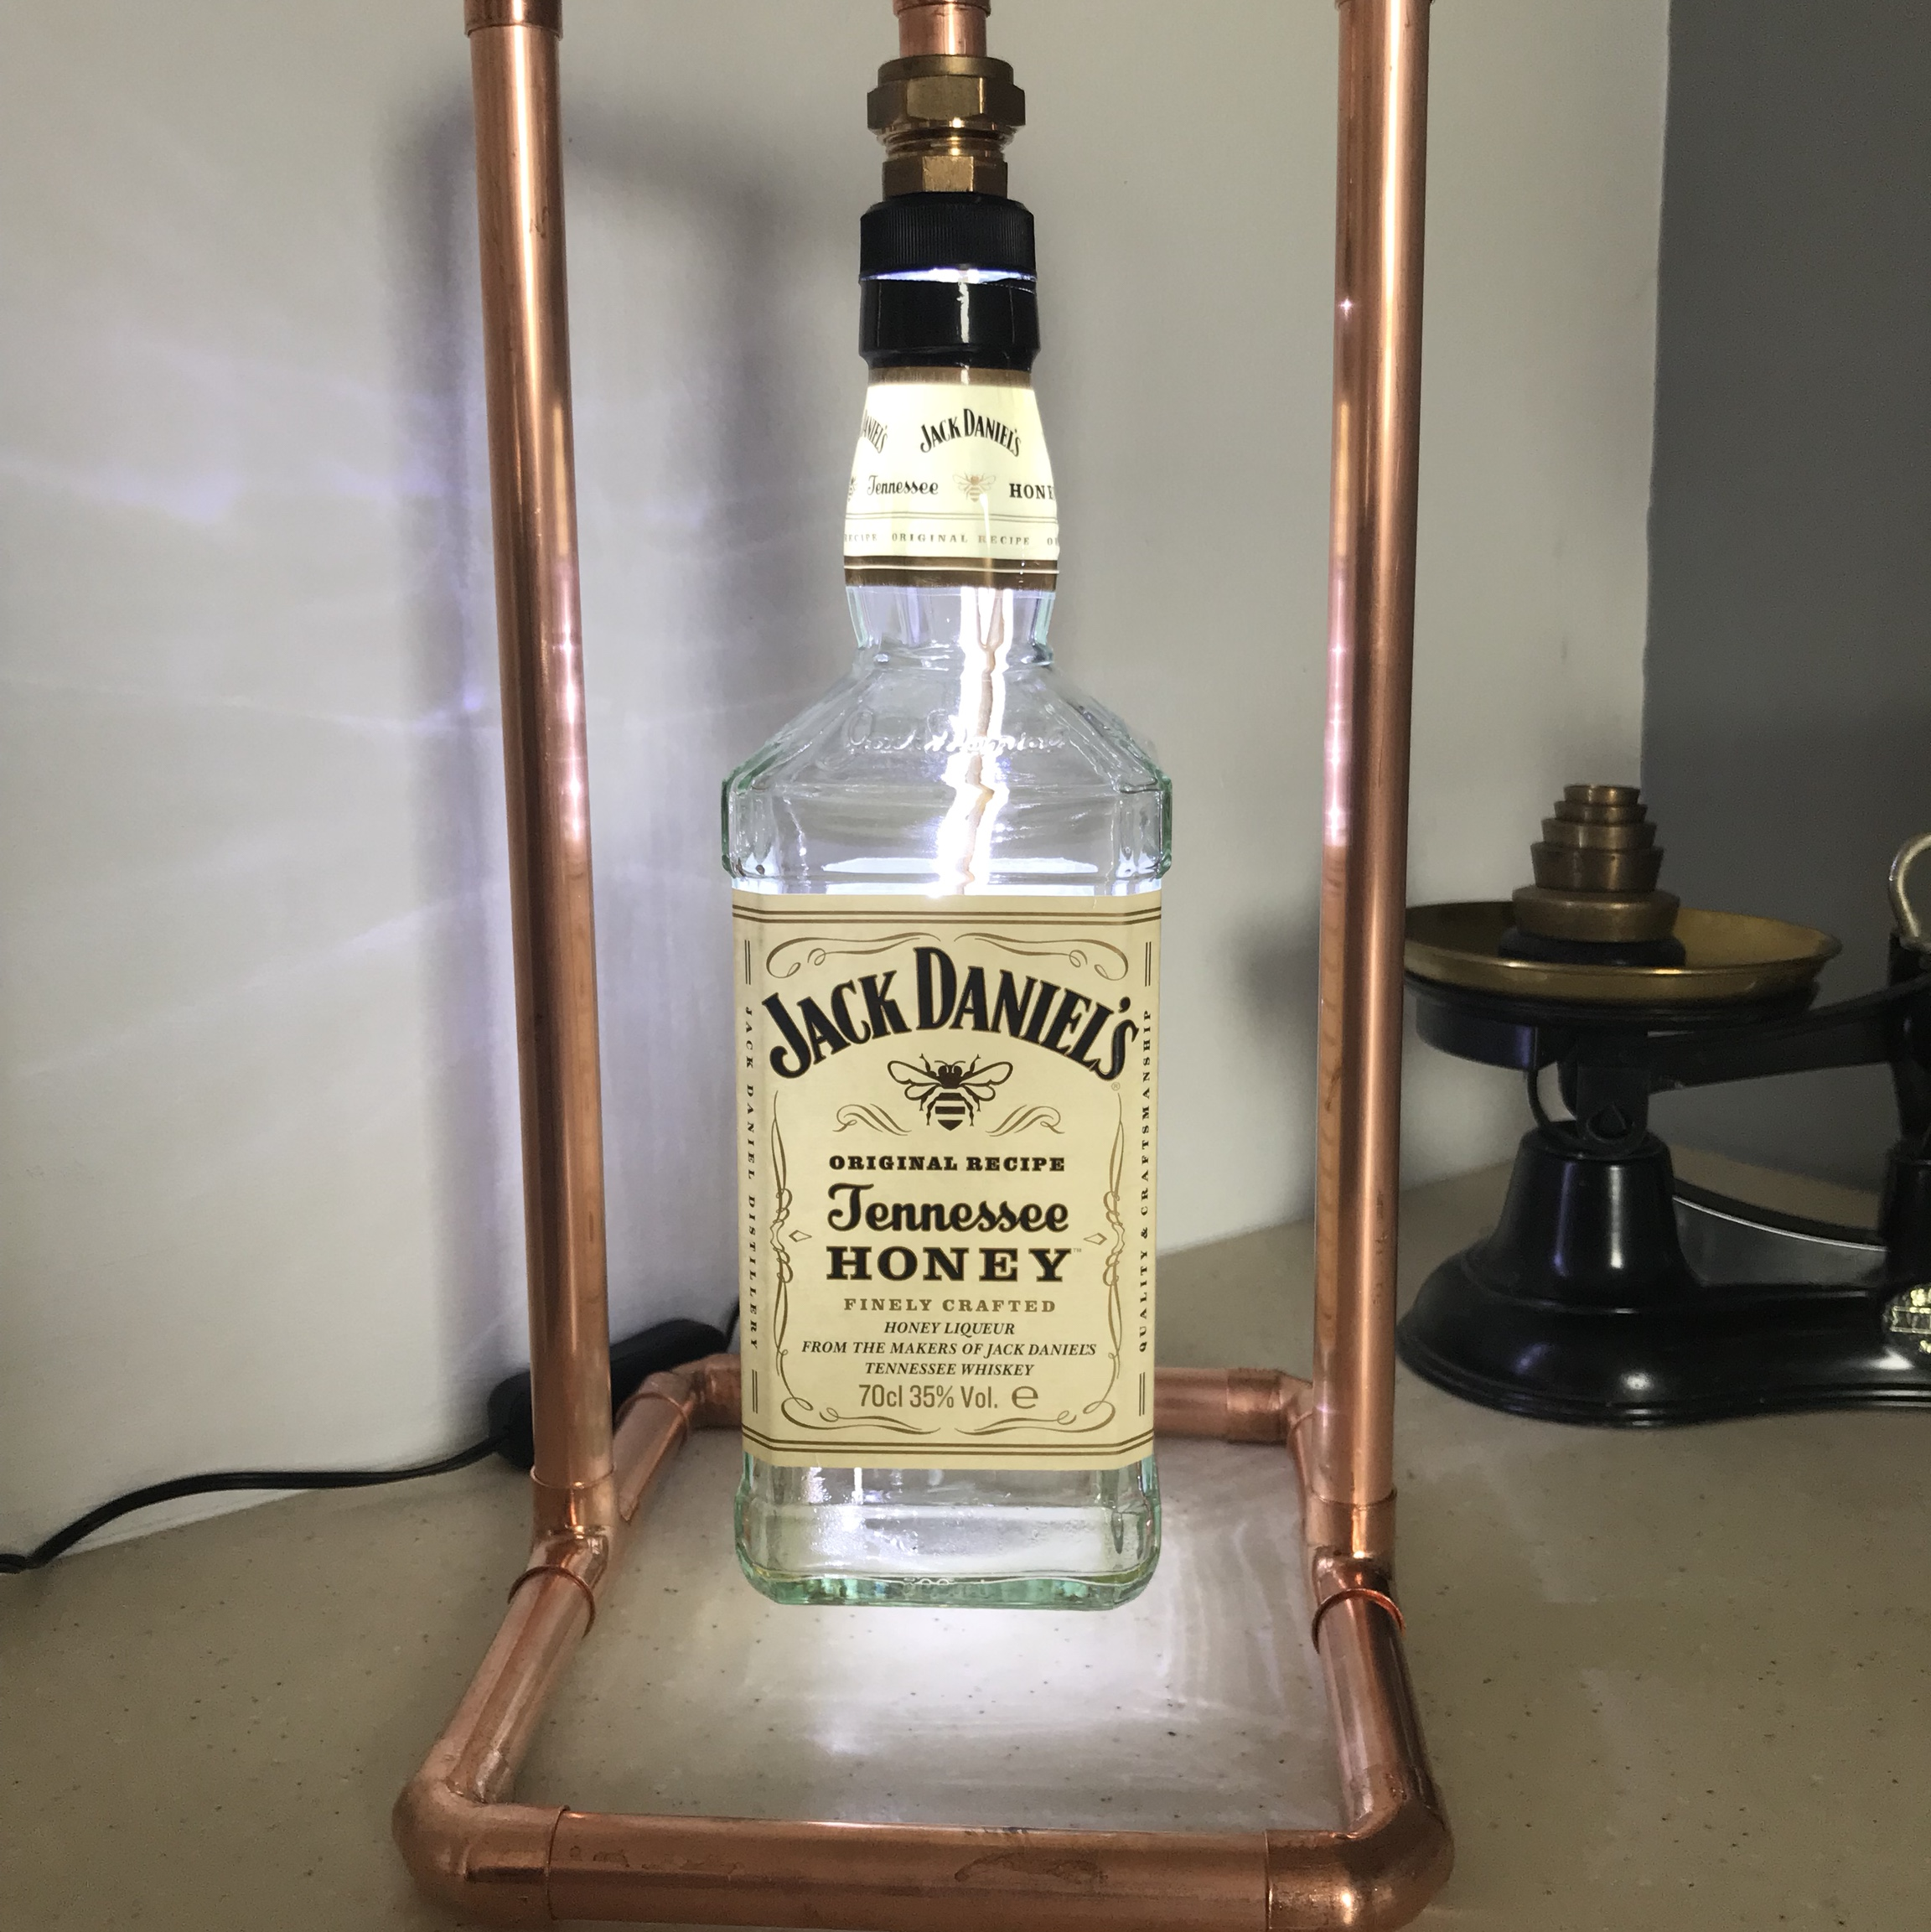Jack Daniel: (681, 168, 1192, 1635)
